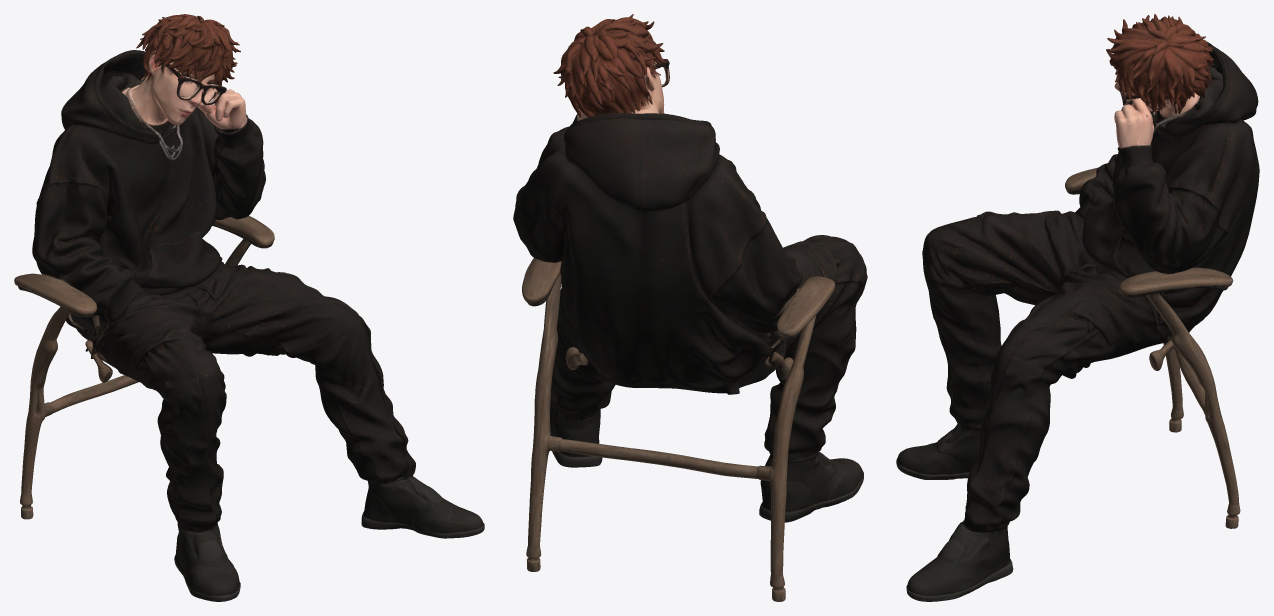
Rendered from CharlyModel.glb.
3 views of the same model, side by side, from view 1: azimuth 30°, elevation 25°; view 2: azimuth 150°, elevation 25°; view 3: azimuth 270°, elevation 25° (orthographic). The views are drawn at different scales.
Size of the model in its own units: 1.46 by 1.9 by 1.26.
Materials: 1 (1 with a texture image).
